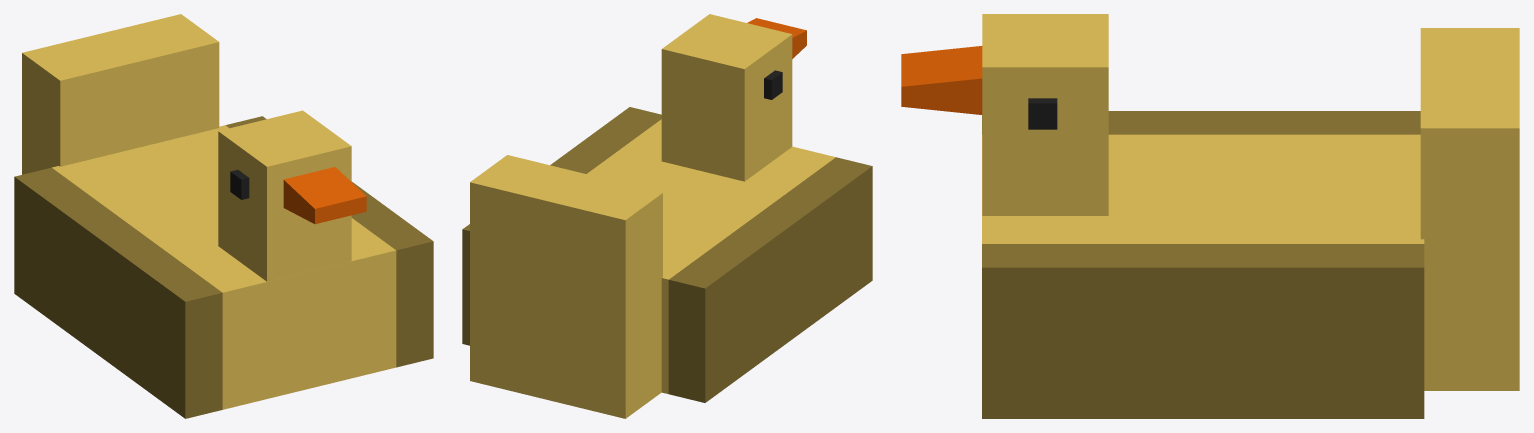
The model's file is 085 Duck.fbx.
The picture shows the model from 3 angles, left to right: view 1: azimuth 30°, elevation 25°; view 2: azimuth 150°, elevation 25°; view 3: azimuth 270°, elevation 25°; orthographic projection. The views are drawn at different scales.
Parts seen in each view (by area): view 1: Lowpoly_Christmas_Pack_085:group2; view 2: Lowpoly_Christmas_Pack_085:group2; view 3: Lowpoly_Christmas_Pack_085:group2.
Boxes of the visible parts, box(x1,y1,x2,y2) form: Lowpoly_Christmas_Pack_085:group2: box(14, 14, 433, 418); Lowpoly_Christmas_Pack_085:group2: box(462, 14, 872, 418); Lowpoly_Christmas_Pack_085:group2: box(901, 14, 1519, 418).
Size of the model in its own units: 1 by 0.8937 by 1.67.
